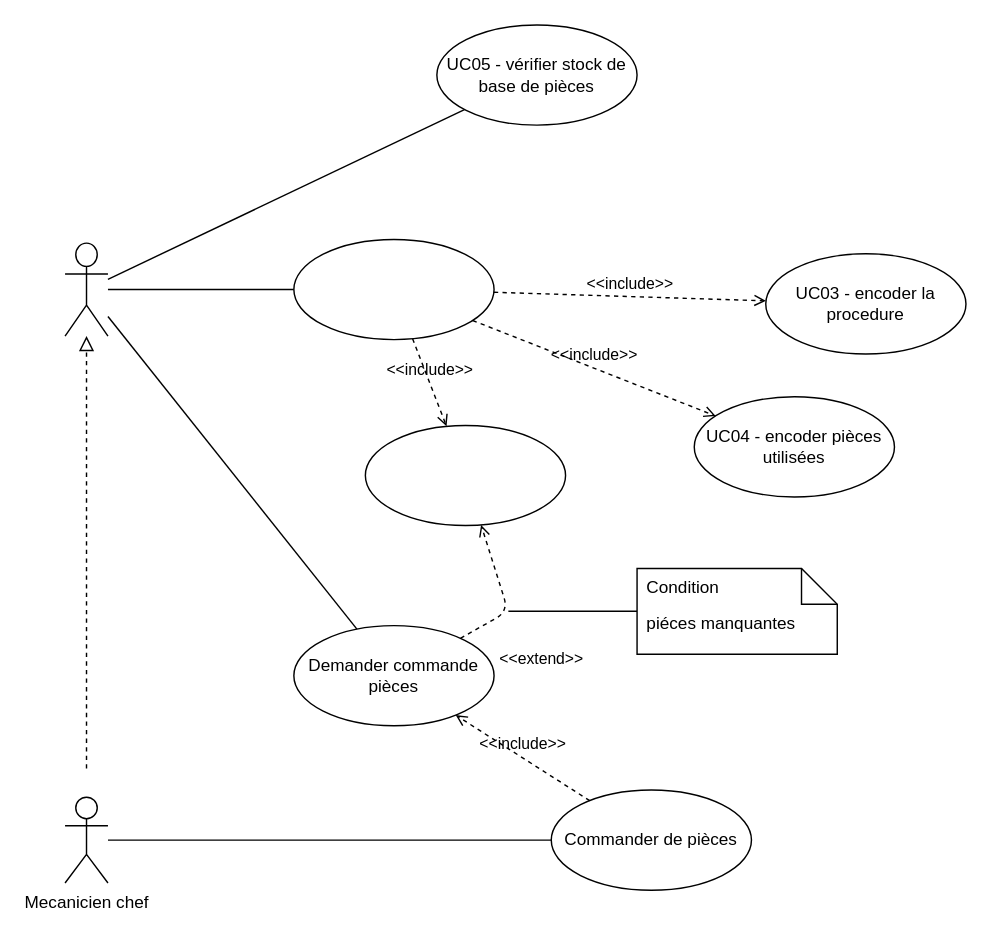
This 991x938 diagram has some shape labels left out. Here are the shapes that lost their labels. From the top down, the centre of each, then its label:
At point 86,289: "Mécanicien".
At point 393,289: "UC01 - réparer la voiture".
At point 465,475: "UC02 - vérifier disponibilité pièces".
